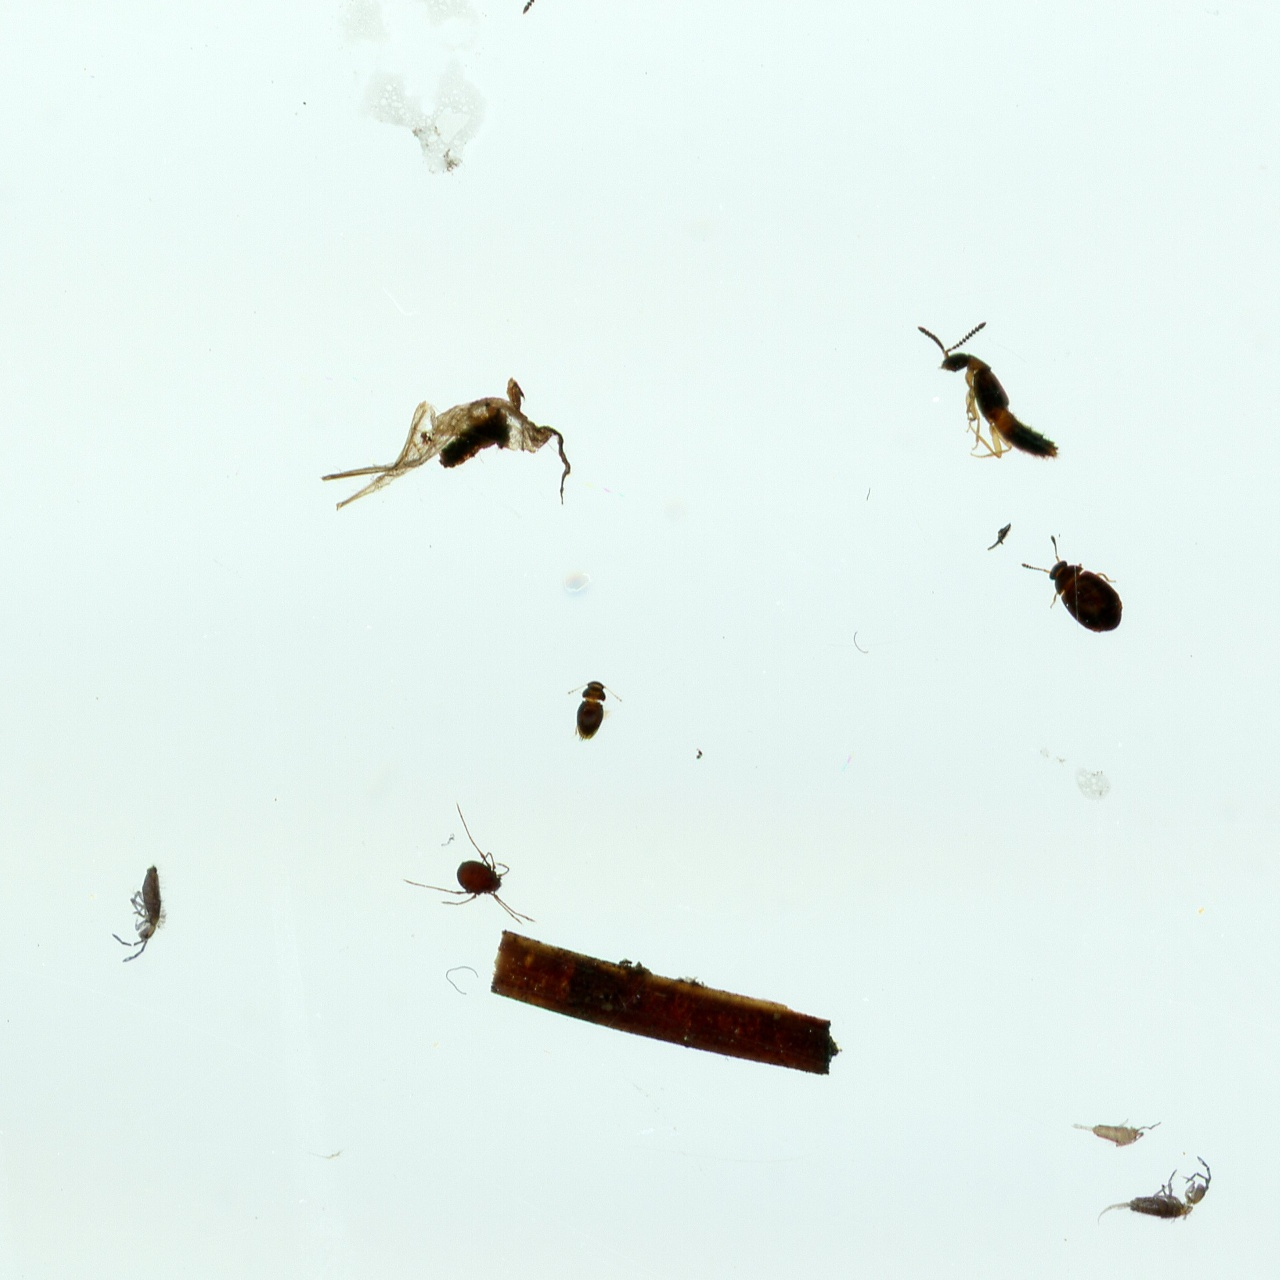arthropod: (908, 310, 1070, 474), (393, 793, 544, 930), (1018, 531, 1130, 641), (1089, 1149, 1218, 1240), (474, 0, 688, 52), (108, 858, 174, 974), (559, 669, 630, 748), (1069, 1117, 1163, 1149)
